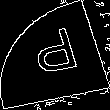P_S: (26, 26, 84, 84)
